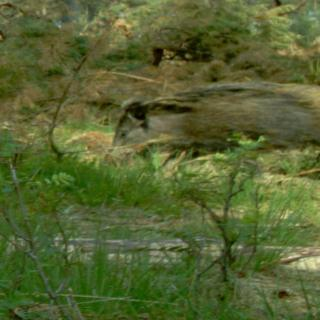Pig: (83, 73, 320, 175)
